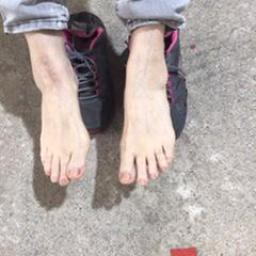Dorsal View -Both Feet-: (22, 32, 180, 196)
